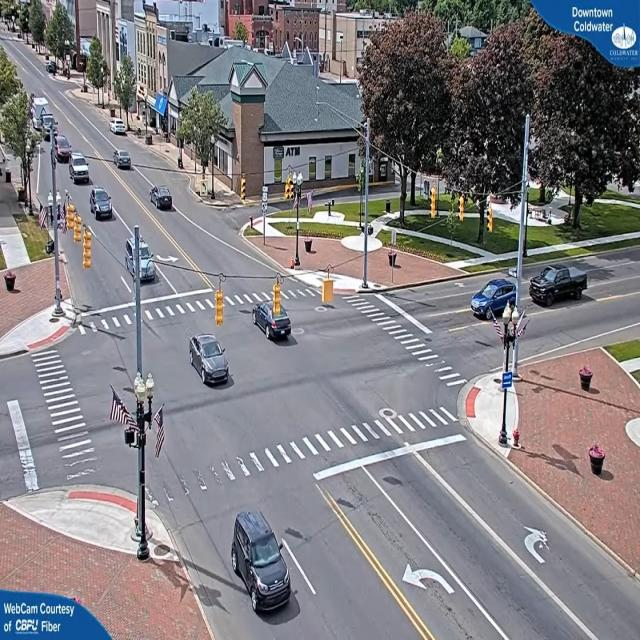car: (231, 511, 294, 618), (529, 266, 588, 308), (190, 335, 232, 388), (472, 278, 519, 323), (68, 152, 90, 186), (90, 188, 112, 220), (150, 186, 173, 212), (114, 151, 132, 170), (110, 120, 129, 136)
